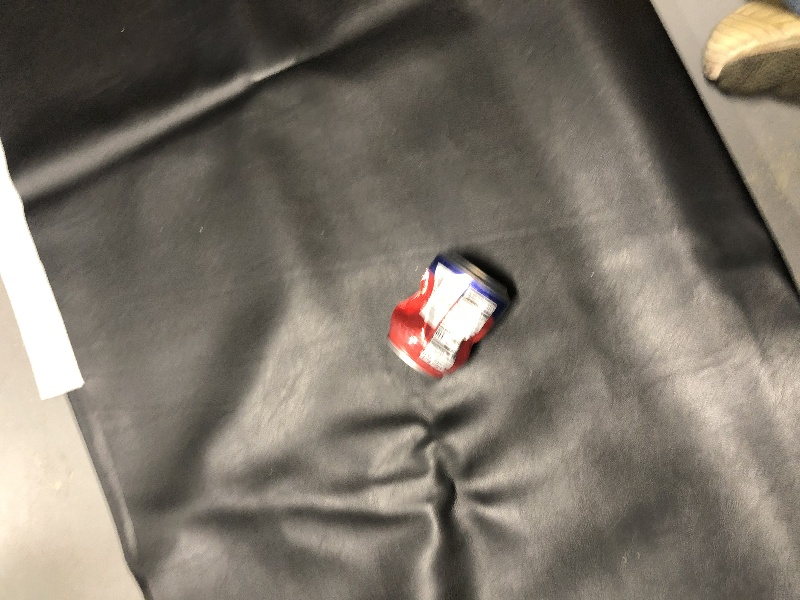metal: (370, 247, 519, 383)
